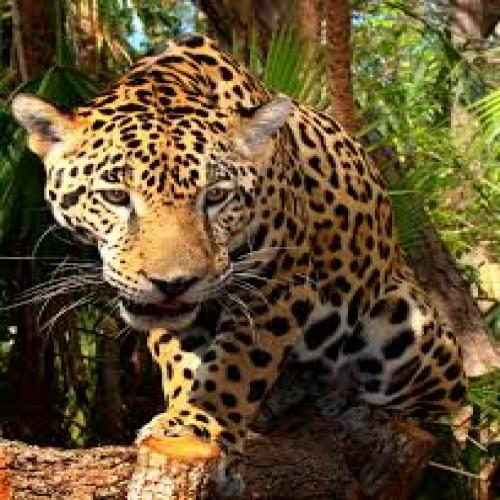jaguar_not-endangered: (32, 39, 466, 452), (474, 472, 475, 472)
